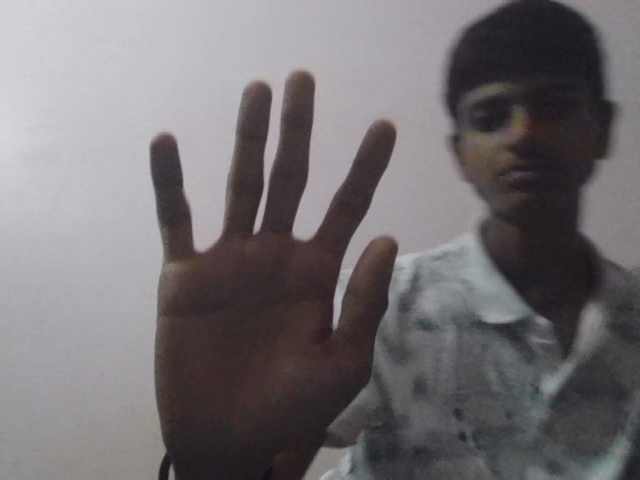hello: (137, 56, 409, 472)
